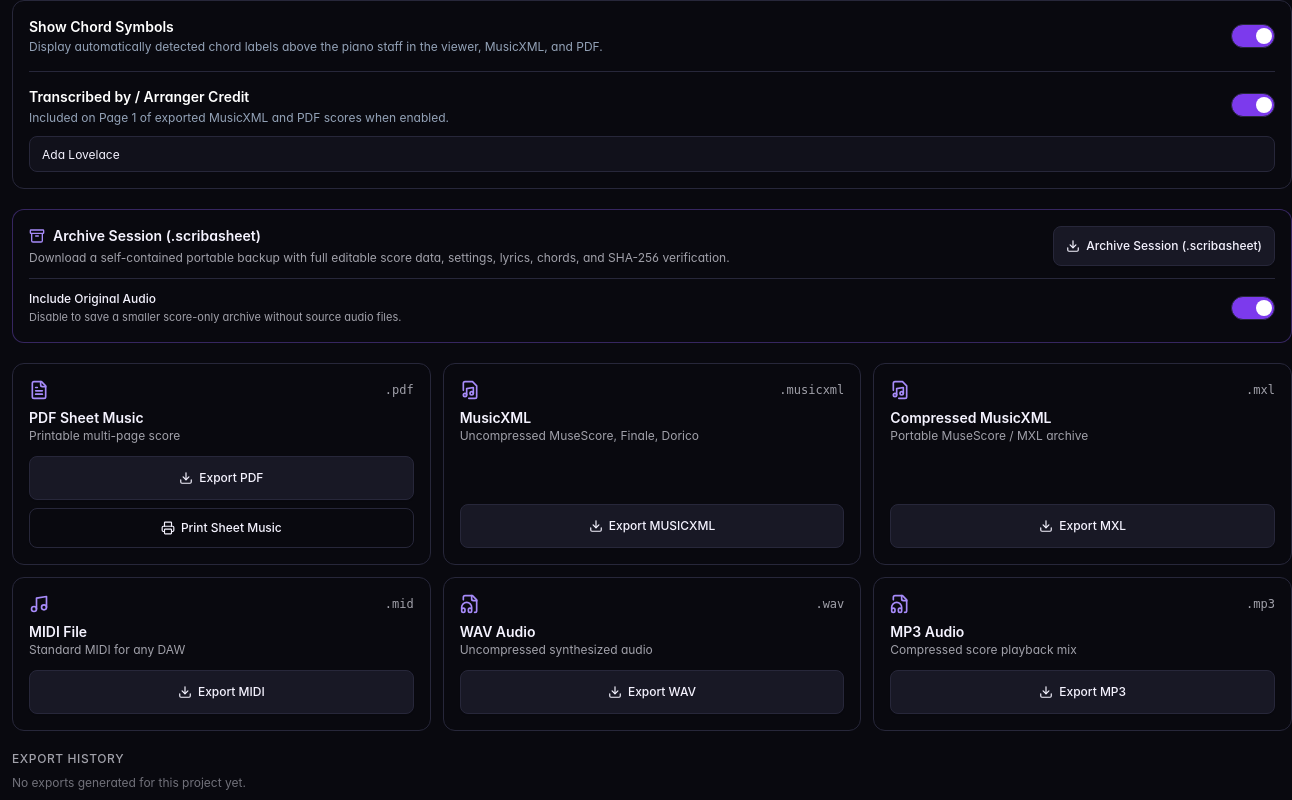
Test: Combined UI, OMR Normalization, Print Title, Arranger Credit & Format Badge › initializes Transcribed by from authenticated user and preserves value when toggled off
Later steps or results of the test are not shown.
Expected: the field labelled "Transcribed by / Arranger Credit" holds "Ada Lovelace", [29, 136, 1275, 172]
Click the switch named "Include Transcribed by credit" at (1253, 105), box [1231, 93, 1275, 117]
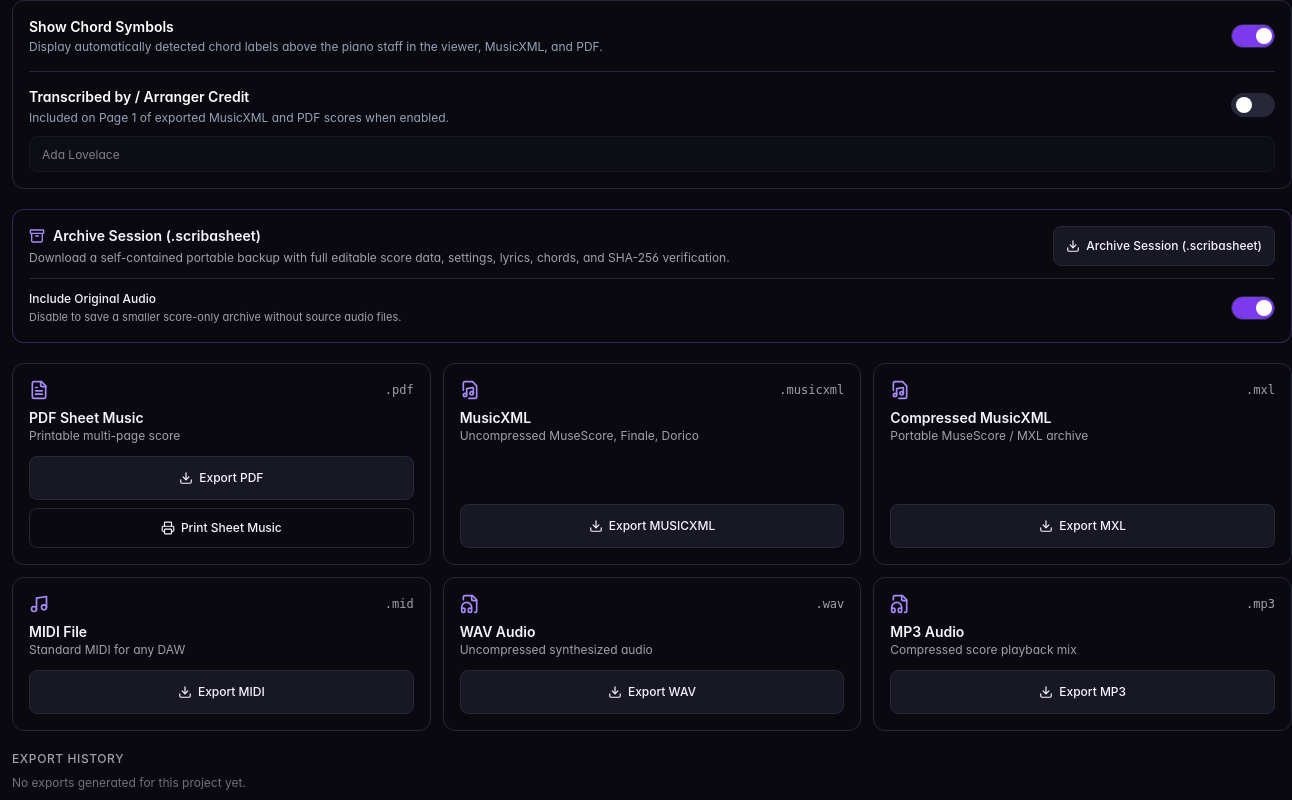
Expected: the field labelled "Transcribed by / Arranger Credit" holds "Ada Lovelace", [29, 136, 1275, 172]
Now the field labelled "Transcribed by / Arranger Credit" is disabled, box [29, 136, 1275, 172]
